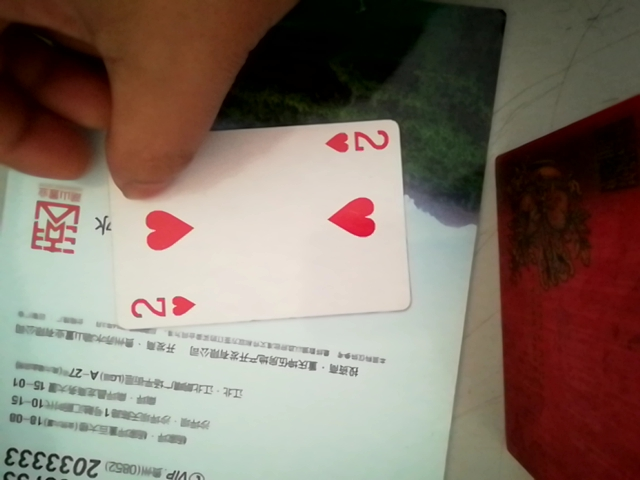hx 2: (86, 113, 409, 332)
